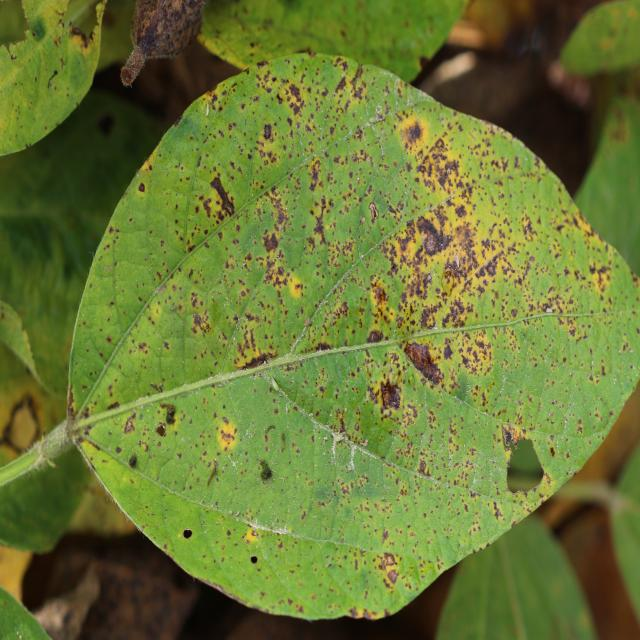Bacterial_Blight: (456, 238, 528, 322), (400, 200, 454, 275), (200, 411, 247, 488), (416, 134, 463, 194), (256, 185, 295, 252), (0, 394, 41, 456), (232, 318, 276, 370), (404, 339, 442, 384), (275, 78, 305, 116), (209, 176, 236, 217), (500, 421, 531, 453), (311, 204, 331, 250), (379, 378, 402, 412), (401, 118, 425, 149), (305, 156, 323, 191), (370, 280, 388, 312), (591, 264, 612, 290), (68, 23, 88, 49), (191, 311, 211, 335), (159, 402, 176, 429), (122, 411, 137, 434), (149, 301, 163, 322), (369, 202, 379, 221), (262, 123, 273, 140), (417, 459, 428, 476), (138, 182, 145, 193), (549, 446, 555, 458)
Soybean: (0, 54, 640, 619)
